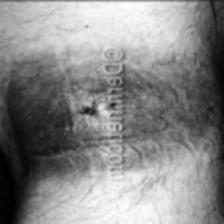Toxin: (4, 62, 202, 174)
